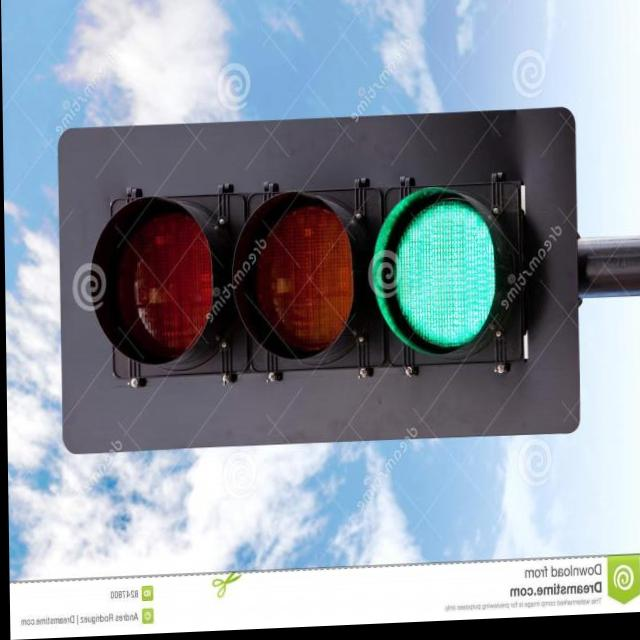green light: (93, 161, 535, 400)
